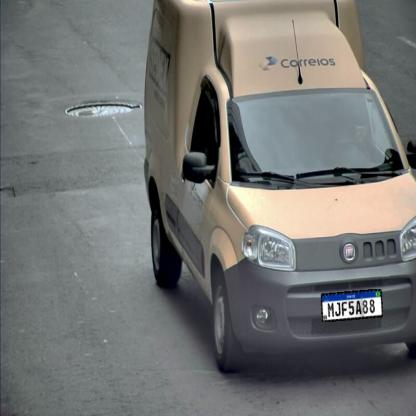PlacaM: (321, 289, 383, 322)
